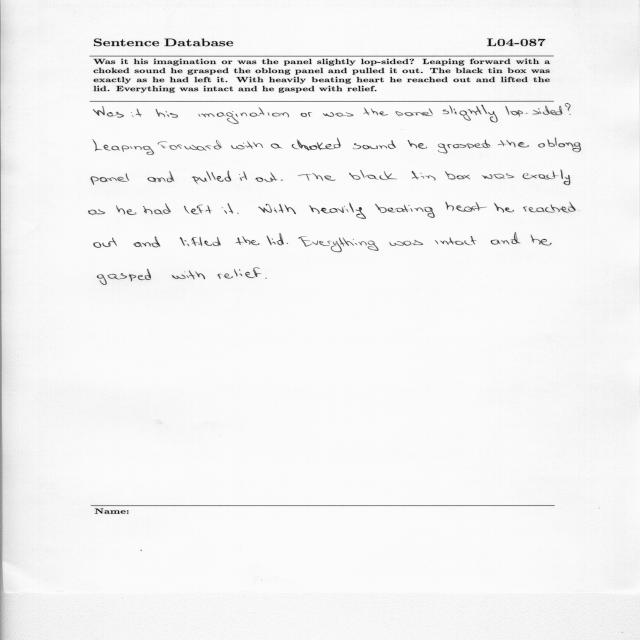word: (198, 107, 289, 124), (298, 237, 379, 253), (443, 105, 498, 123), (93, 139, 154, 155), (309, 202, 366, 219), (97, 269, 151, 285), (375, 204, 435, 218), (438, 140, 490, 154), (523, 170, 571, 185), (158, 140, 222, 151), (505, 106, 563, 117), (538, 138, 581, 152), (292, 138, 341, 150), (523, 202, 576, 213), (192, 171, 231, 185), (218, 268, 262, 279), (349, 170, 397, 180), (91, 173, 129, 185), (445, 202, 487, 212), (491, 232, 521, 245), (353, 140, 396, 149), (258, 204, 296, 214), (93, 106, 124, 118), (180, 237, 221, 246), (435, 236, 476, 245), (143, 204, 171, 215), (395, 108, 433, 116), (298, 173, 336, 181), (148, 171, 175, 182), (133, 237, 160, 248), (172, 270, 205, 279), (184, 205, 212, 215), (231, 141, 263, 149), (94, 237, 117, 248), (531, 235, 552, 246), (255, 173, 278, 183), (445, 171, 470, 180), (498, 140, 529, 147), (412, 171, 436, 180), (236, 237, 260, 246), (266, 233, 284, 245), (389, 240, 423, 246), (156, 109, 178, 118), (364, 108, 388, 116), (482, 173, 514, 179), (116, 206, 136, 215), (494, 203, 514, 212), (408, 140, 427, 149), (323, 112, 354, 117), (222, 203, 233, 214), (89, 209, 106, 215), (131, 108, 142, 117), (239, 171, 247, 181), (565, 103, 570, 115), (301, 112, 312, 117), (271, 144, 282, 149), (281, 180, 284, 181), (237, 213, 239, 214), (265, 278, 267, 279), (287, 243, 288, 244)
